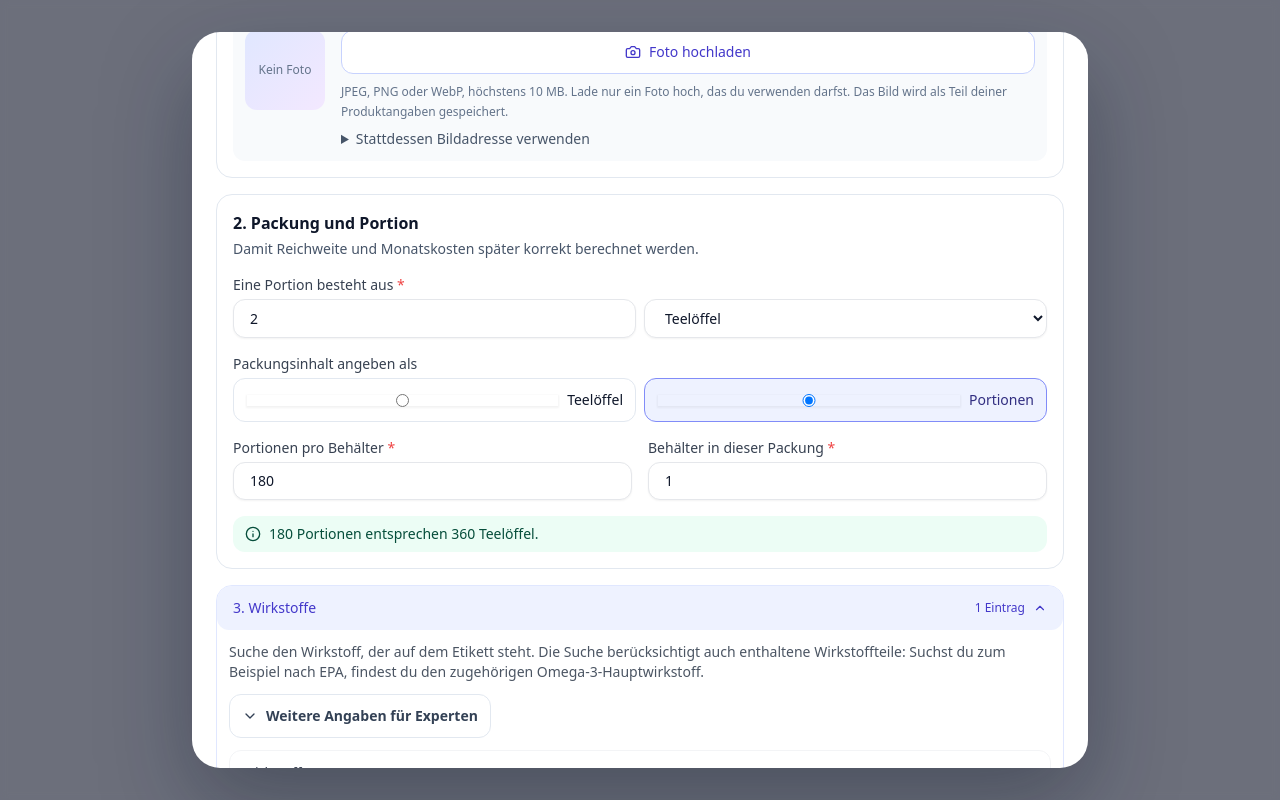
UserProductForm sub-ingredient roundtrip › zeigt die bidirektionale Packungsrechnung auch für Teelöffel
(page scrolled)
Click the radio button labelled "Teelöffel" at (403, 400), box 246,394 -> 559,406
(page scrolled)
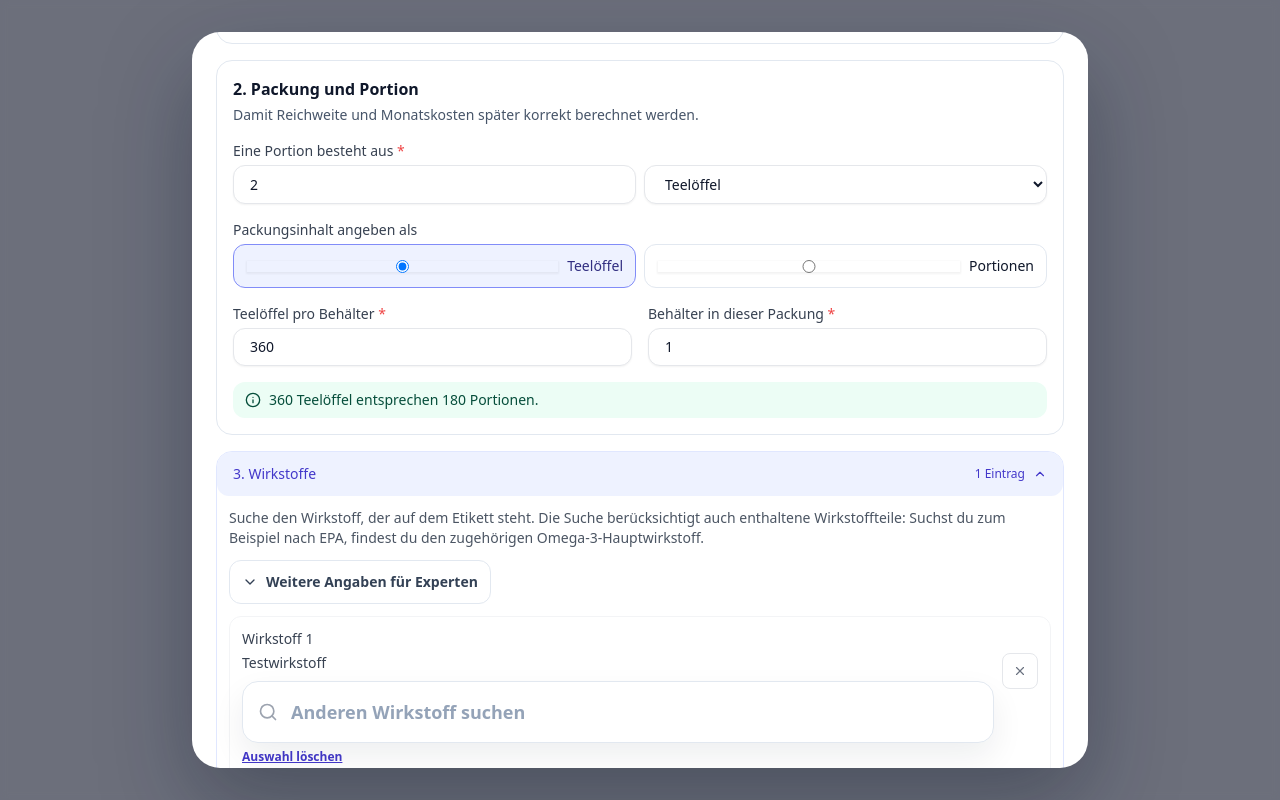
Expected: the number field showing "360" is shown, 233,328 -> 632,366
